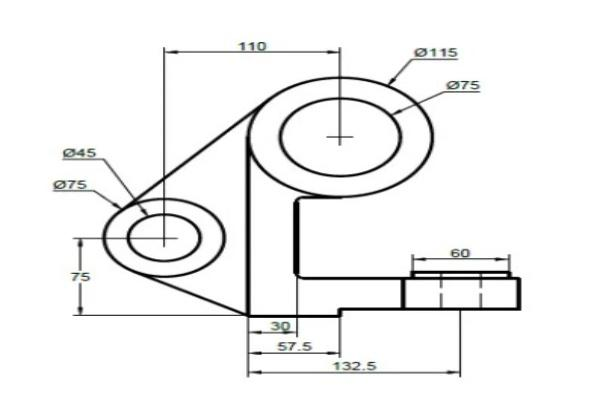dimensions: (410, 39, 460, 60), (439, 72, 485, 93), (328, 358, 382, 374), (234, 34, 270, 56), (272, 337, 318, 354), (444, 238, 476, 262), (57, 143, 100, 160), (49, 176, 93, 192), (66, 266, 94, 284), (260, 320, 295, 333)
